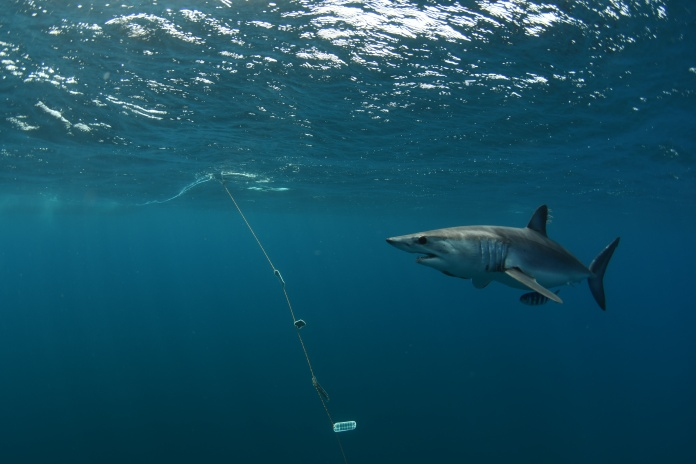Mako: (375, 199, 630, 322)
